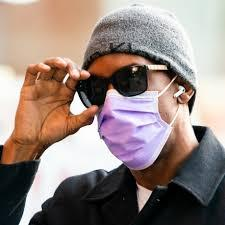cap: (74, 0, 204, 98)
mask: (89, 85, 184, 168)
sunglasses: (68, 64, 152, 106)
